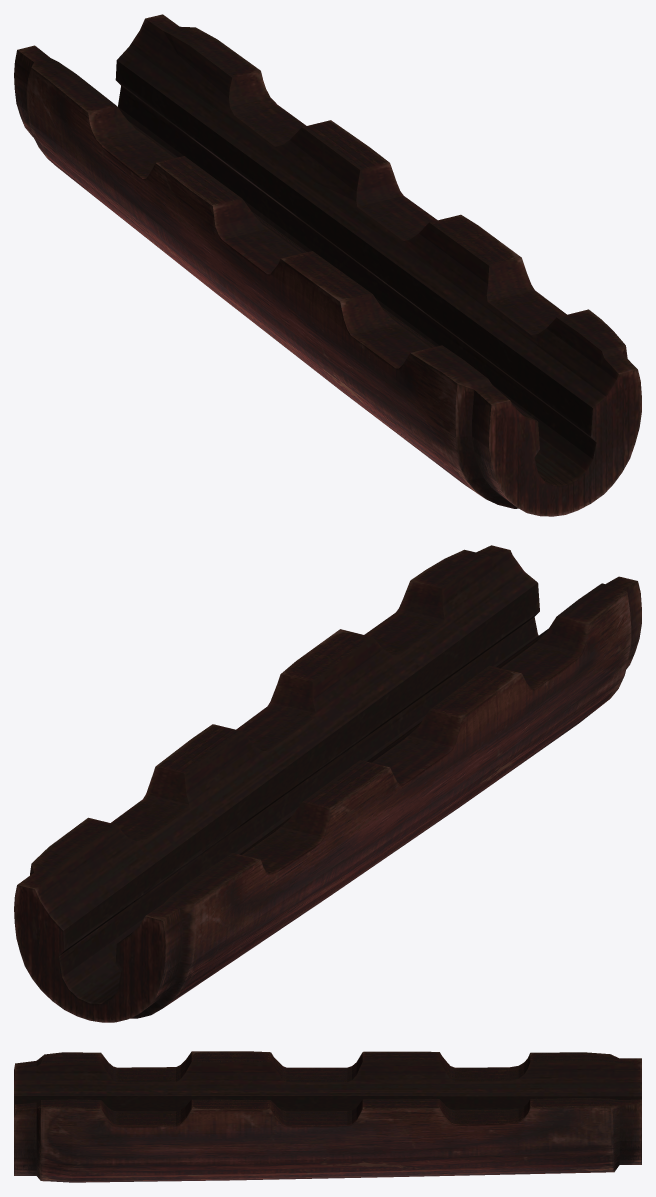
3 views of the same model, one above another, from view 1: azimuth 30°, elevation 25°; view 2: azimuth 150°, elevation 25°; view 3: azimuth 270°, elevation 25° (orthographic). The views are drawn at different scales.
Visible parts, largest first — view 1: TW_634f08a21f9f536910079b5a_PZ_Import; view 2: TW_634f08a21f9f536910079b5a_PZ_Import; view 3: TW_634f08a21f9f536910079b5a_PZ_Import.
Part boxes in pixels (x1,y1,x2,y2): TW_634f08a21f9f536910079b5a_PZ_Import: (14,14,641,516); TW_634f08a21f9f536910079b5a_PZ_Import: (14,545,641,1022); TW_634f08a21f9f536910079b5a_PZ_Import: (14,1051,641,1182).
Bounding box in the file's own units: 0.0191 × 0.0849 × 0.0143.
1 material, 1 textured.
